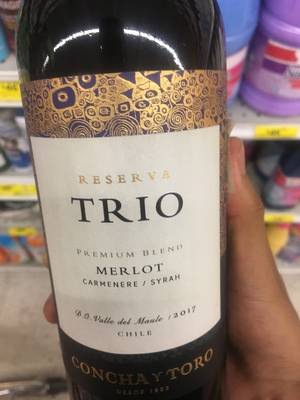trio merlot: (25, 18, 245, 391)
